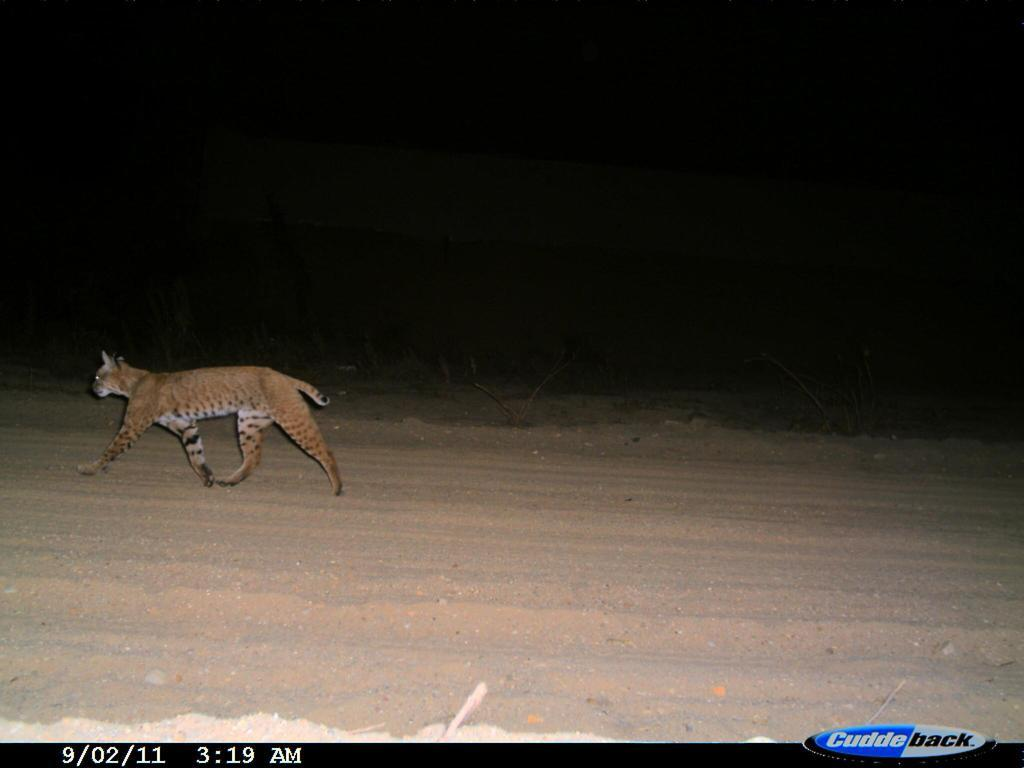bobcat: (57, 344, 358, 503)
